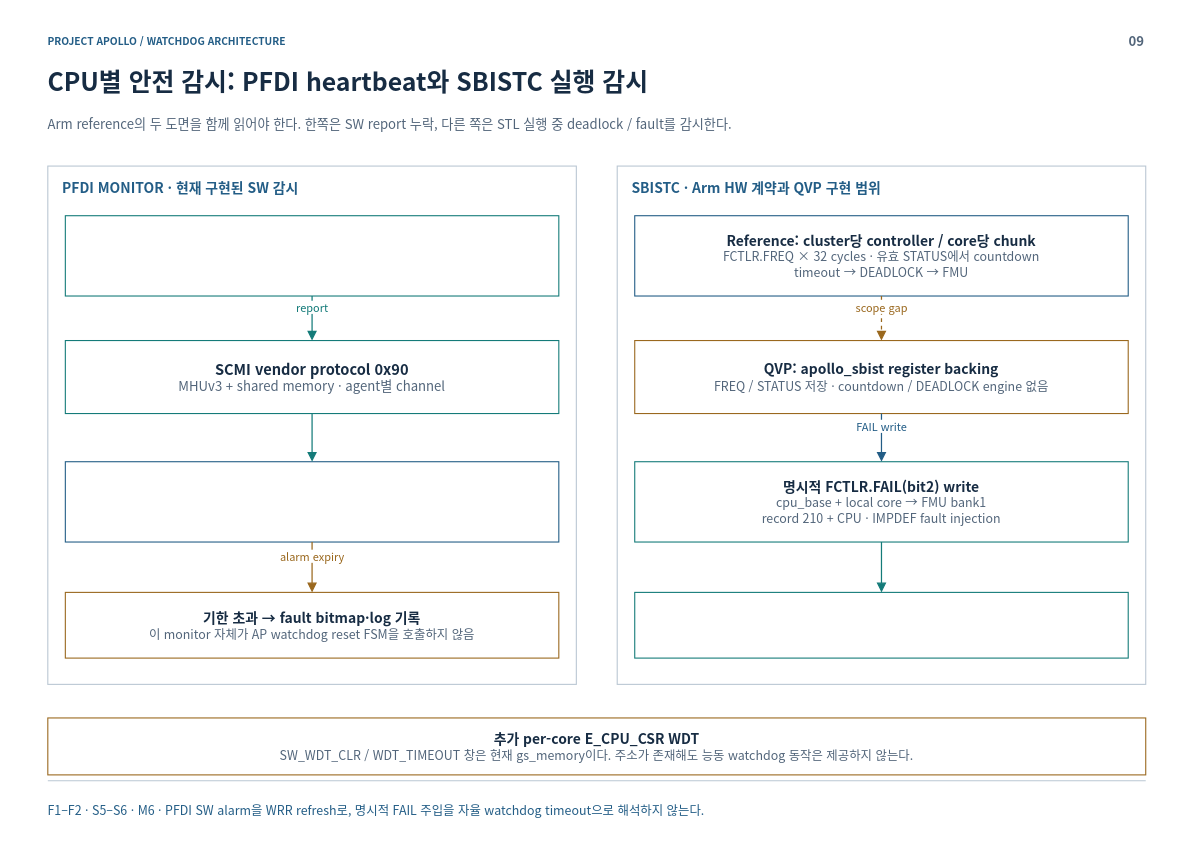
This 1193x857 diagram has some shape labels left out. The shapes that lost their labels are listed below. From the top down, each one's centre as x and y in pixels, then its label:
point (311, 255): AP Linux / CL1 Zephyr · CPU별 PFDI agent 진단 완료 / online 상태 → heartbeat report
point (311, 501): CL0 mod_pfdi_monitor CPU별 상태 + SCP mod_timer alarm report 수신 시 기대 상태·deadline 갱신
point (881, 625): FMU → SCP SBIST fault 처리 실행 실패 주입 경로 · 자동 deadline 만료가 아님
